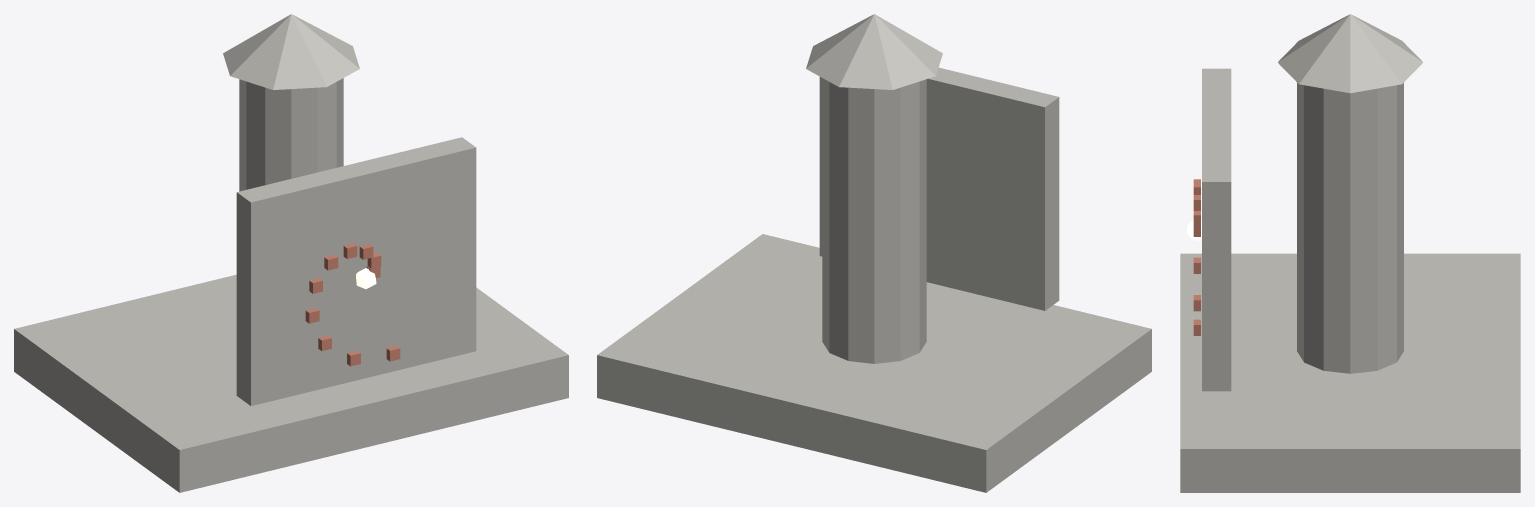
The model's file is LM28_Syracuse.glb.
3 renders of one model, left to right at view 1: azimuth 30°, elevation 25°; view 2: azimuth 150°, elevation 25°; view 3: azimuth 270°, elevation 25°, orthographic. The views are drawn at different scales.
Visible parts, largest first — view 1: SyracuseBase, Relief, Pillar, Capstone; view 2: SyracuseBase, Relief, Pillar, Capstone; view 3: SyracuseBase, Pillar, Relief, Capstone.
Part boxes in pixels (x1,y1,x2,y2): SyracuseBase: [14, 274, 568, 492]; Relief: [236, 137, 476, 405]; Pillar: [239, 78, 343, 191]; Capstone: [223, 14, 359, 89]; SyracuseBase: [597, 234, 1151, 492]; Relief: [819, 67, 1059, 310]; Pillar: [822, 78, 926, 363]; Capstone: [806, 14, 942, 89]; SyracuseBase: [1180, 253, 1520, 492]; Pillar: [1297, 83, 1403, 373]; Relief: [1202, 68, 1231, 391]; Capstone: [1278, 14, 1422, 93].
Bounding box in the file's own units: 1.9 × 1.73 × 1.4.
